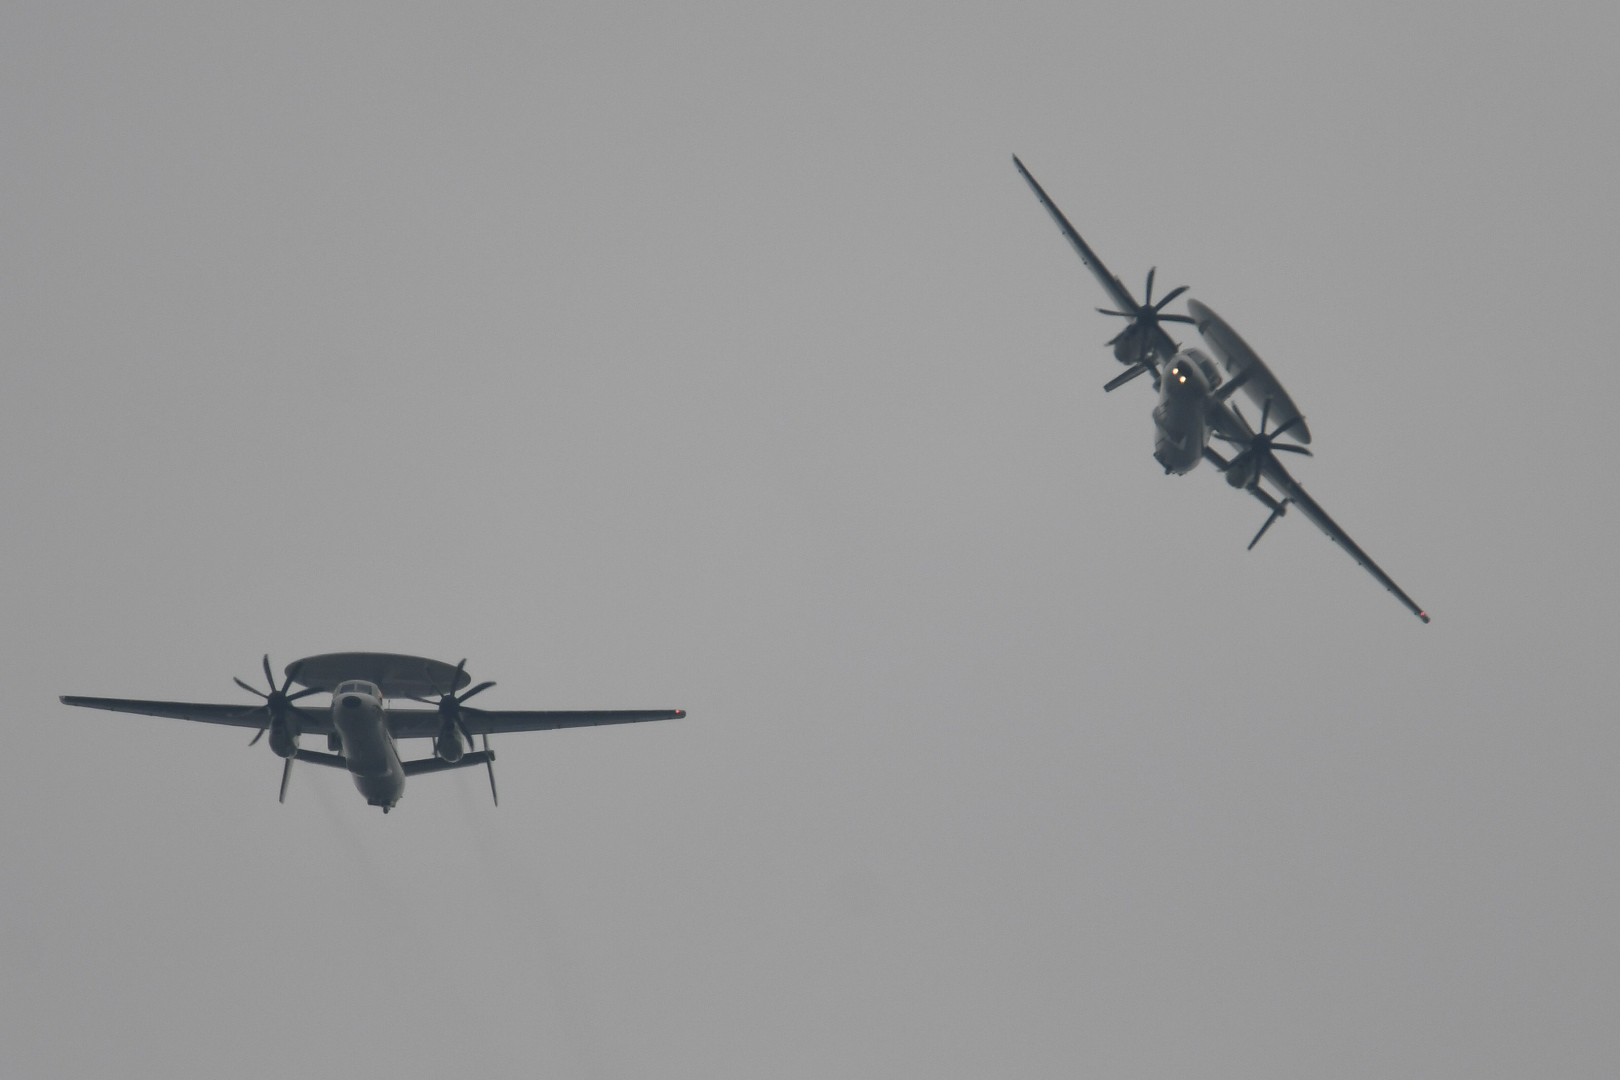E2: (1011, 151, 1431, 624), (58, 651, 687, 815)
